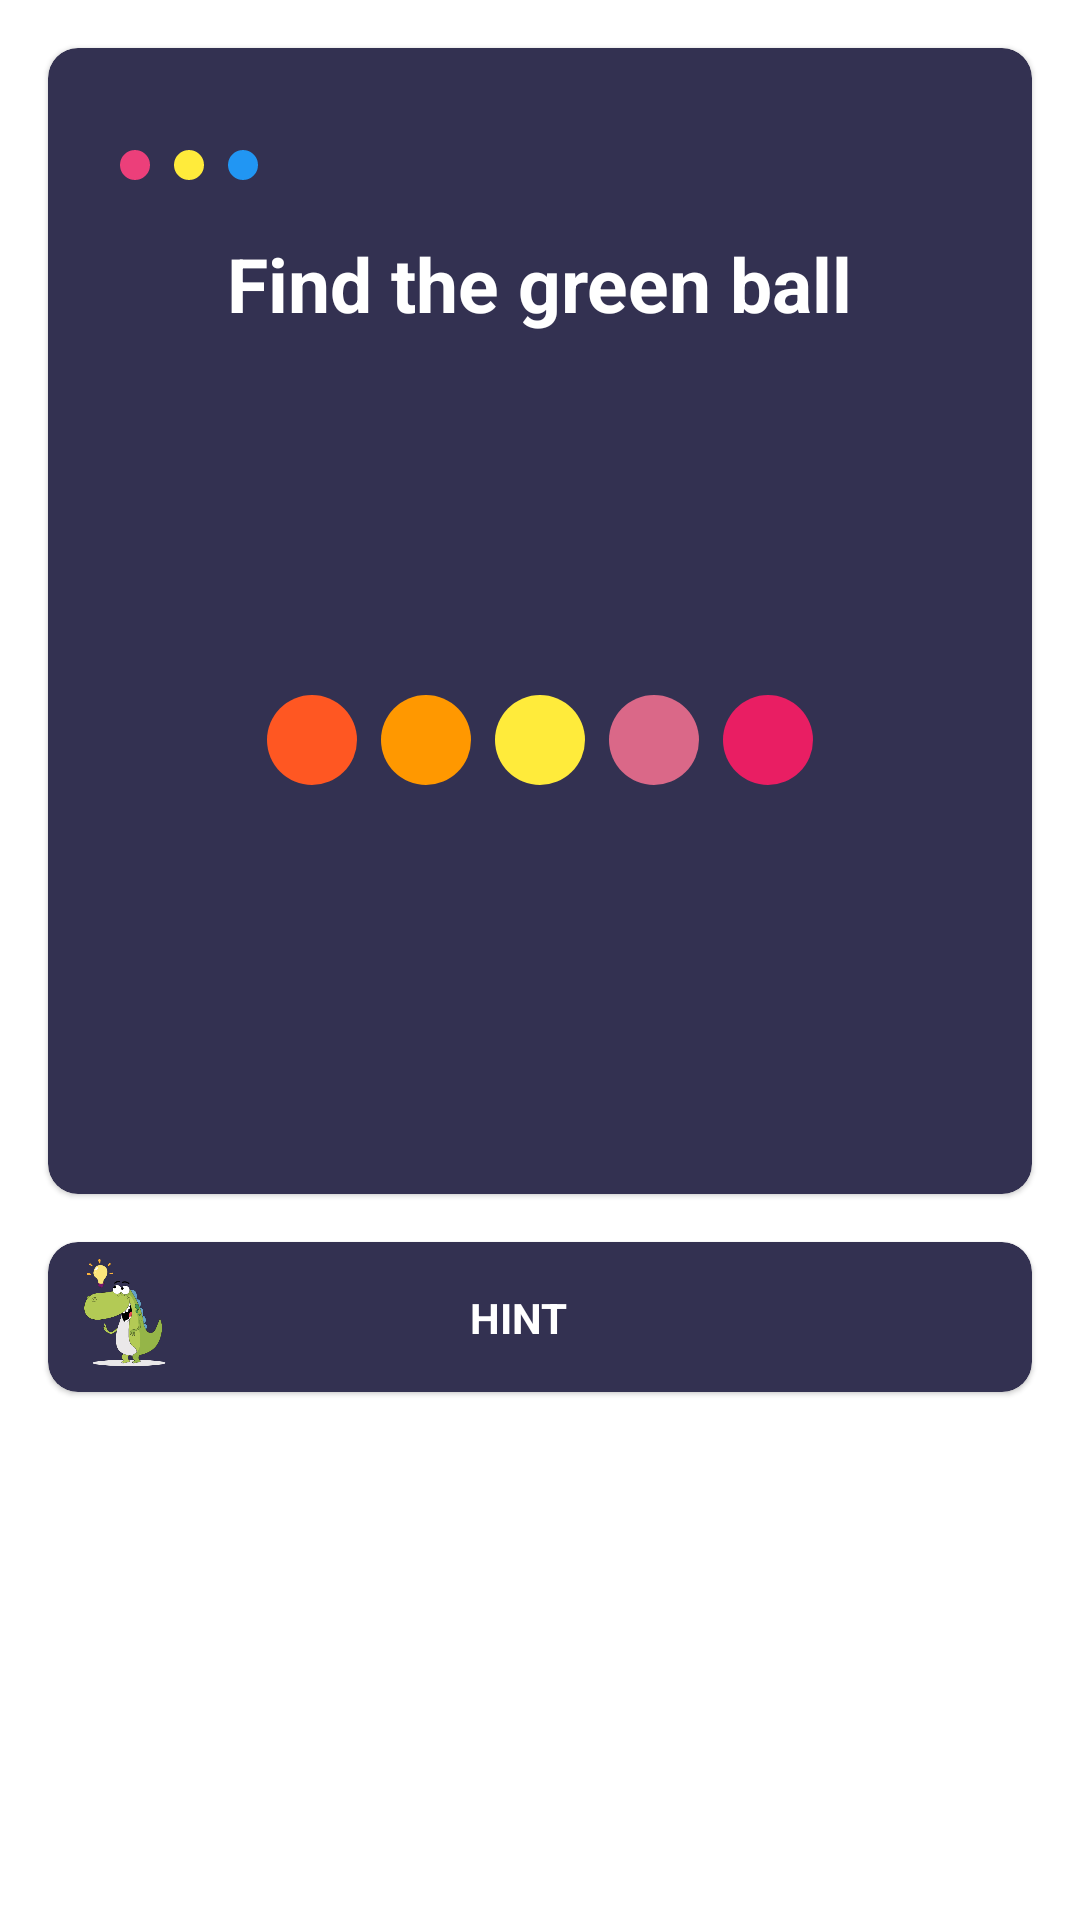

Icon click points for this 1080px x 1920px phone screenshot, format (x=x, y=y):
idea: (x=123, y=1317)
